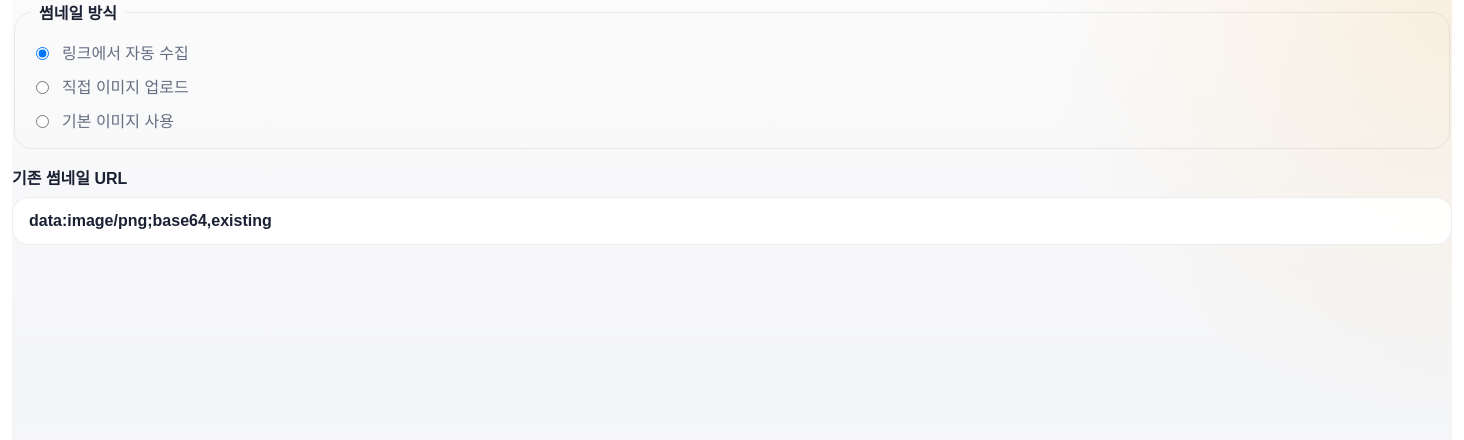
Test: ThumbnailControls › requires confirmation before replacing an existing thumbnail with the default image
What coordinates should you click on to do the following:
click the radio button labelled "기본 이미지 사용"
I would click on:
 (42, 122)
Its box is [36,115,49,128].
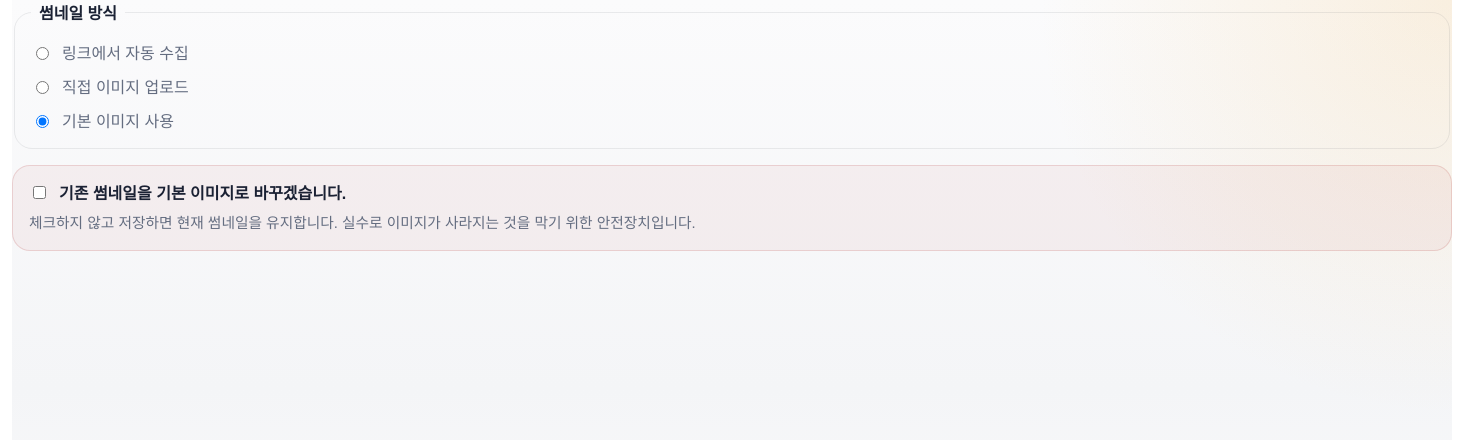
Result: the checkbox labelled "기존 썸네일을 기본 이미지로 바꾸겠습니다." is shown at [33,186,46,198]
